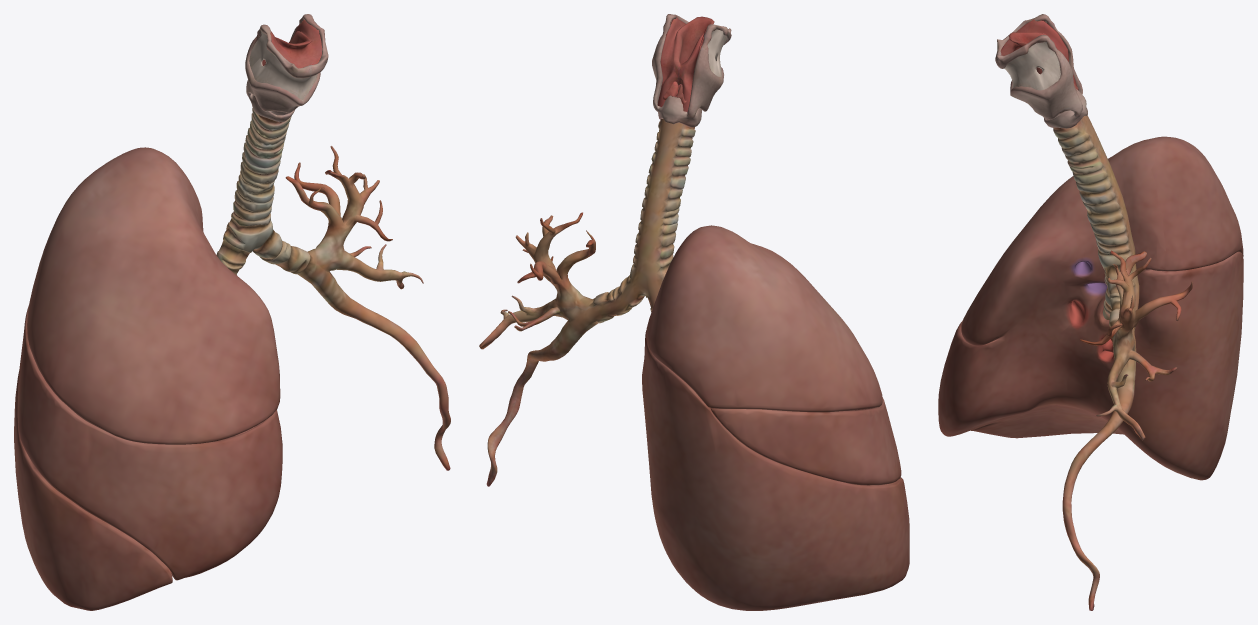
Rendered from Lungs.glb.
The picture shows the model from 3 angles, left to right: view 1: azimuth 30°, elevation 25°; view 2: azimuth 150°, elevation 25°; view 3: azimuth 270°, elevation 25°; orthographic projection. The views are drawn at different scales.
Parts seen in each view (by area): view 1: Respiratoy_Lung_Geo_Right_Male_Anatomy_Pack_Complete_V05:Mal; view 2: Respiratoy_Lung_Geo_Right_Male_Anatomy_Pack_Complete_V05:Mal; view 3: Respiratoy_Lung_Geo_Right_Male_Anatomy_Pack_Complete_V05:Mal.
Boxes of the visible parts, left/top/right/bottom form: Respiratoy_Lung_Geo_Right_Male_Anatomy_Pack_Complete_V05:Mal: left=14, top=14, right=450, bottom=610; Respiratoy_Lung_Geo_Right_Male_Anatomy_Pack_Complete_V05:Mal: left=479, top=14, right=909, bottom=610; Respiratoy_Lung_Geo_Right_Male_Anatomy_Pack_Complete_V05:Mal: left=938, top=14, right=1243, bottom=610.
Size of the model in its own units: 0.2724 by 0.3302 by 0.178.
3 materials, 3 textured.
